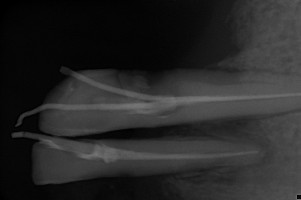Dental Caries: (159, 118, 278, 185)
